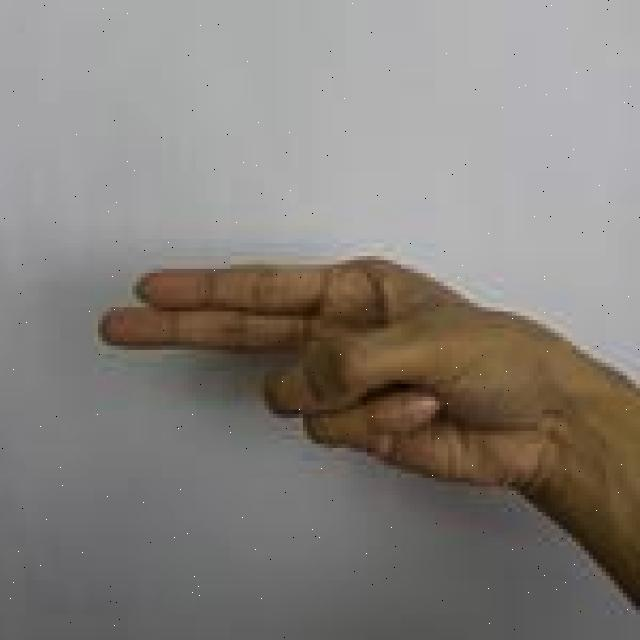H: (94, 250, 640, 620)
